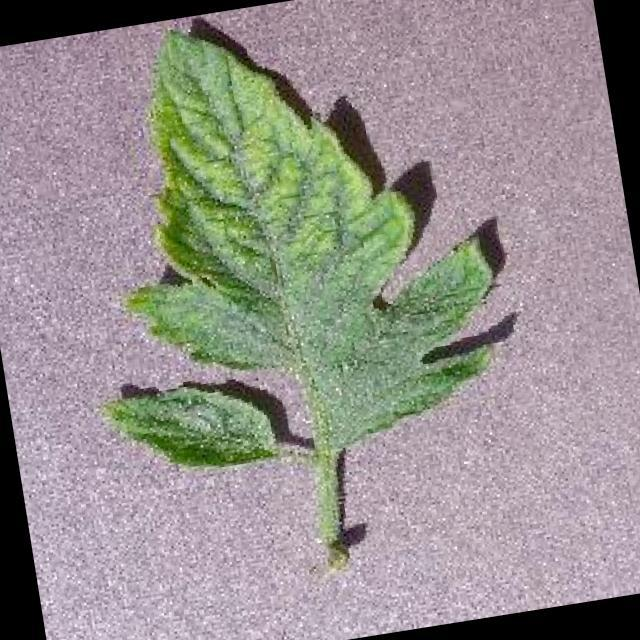Tomato mosaic virus leaf: (50, 0, 520, 485)
